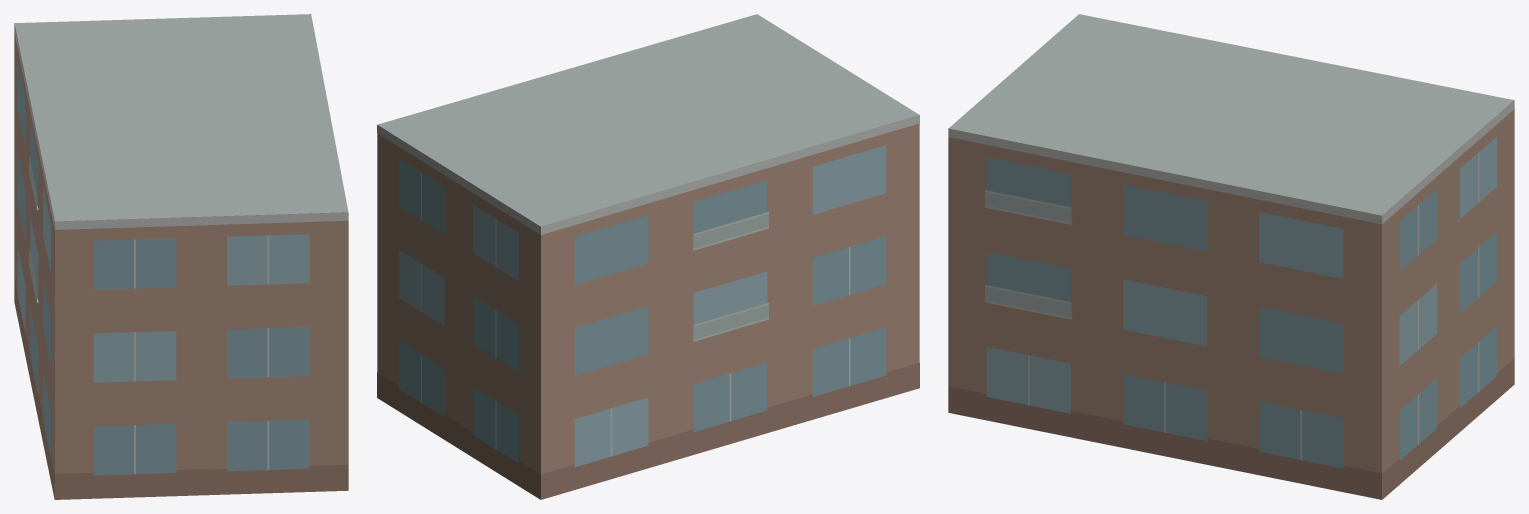
Rendered from survey-upis-32670563.glb.
3 views of the same model, side by side, from view 1: azimuth 30°, elevation 25°; view 2: azimuth 150°, elevation 25°; view 3: azimuth 270°, elevation 25° (orthographic). The views are drawn at different scales.
Parts seen in each view (by area): view 1: survey-upis-32670563.tmp; view 2: survey-upis-32670563.tmp; view 3: survey-upis-32670563.tmp.
Part boxes in pixels (x1,y1,x2,y2): survey-upis-32670563.tmp: [14, 14, 348, 499]; survey-upis-32670563.tmp: [377, 14, 919, 499]; survey-upis-32670563.tmp: [948, 14, 1514, 499].
Size of the model in its own units: 12.1 by 7.95 by 14.36.
